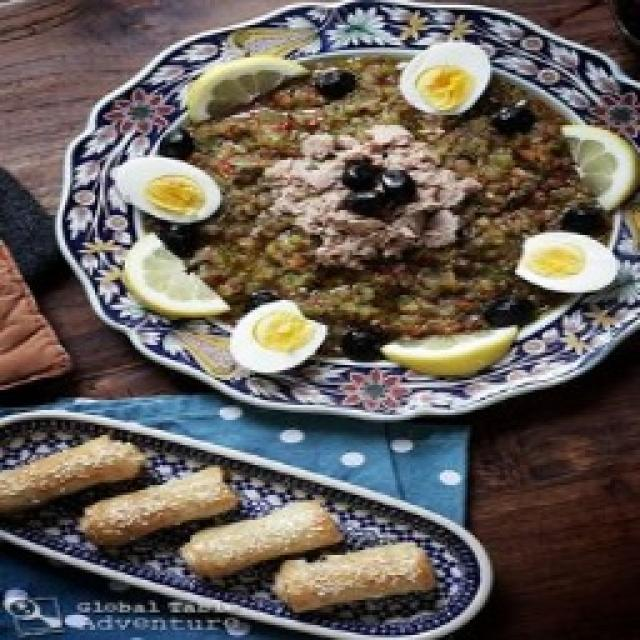Brik: (181, 500, 435, 612), (80, 466, 237, 548), (0, 435, 146, 513)
Salade mechweya: (180, 59, 611, 358)
